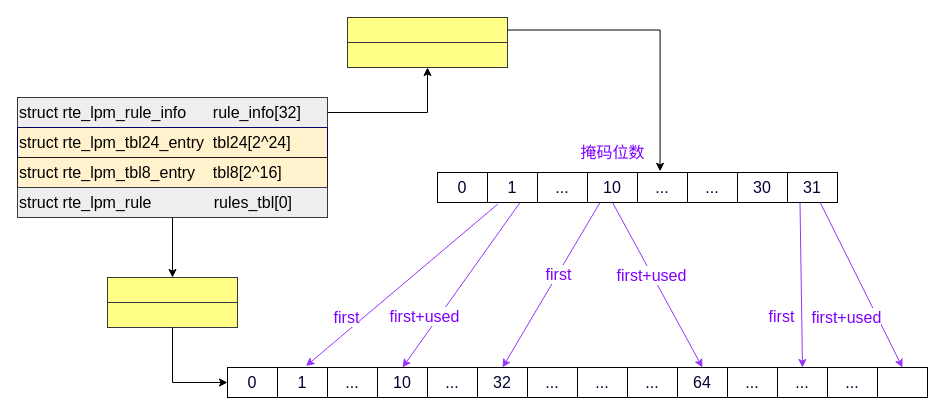
Image size: 945x415. Some labels were removed from this diagram. Here are the shapes that lost their labels. From the top down, the box of each, then its label:
(346, 16, 508, 42): uint32_t used_rules
(346, 42, 508, 68): uint32_t first_rule
(106, 276, 238, 302): uint32_t ip
(106, 302, 238, 328): uint8_t nexthop
(876, 366, 928, 398): max
